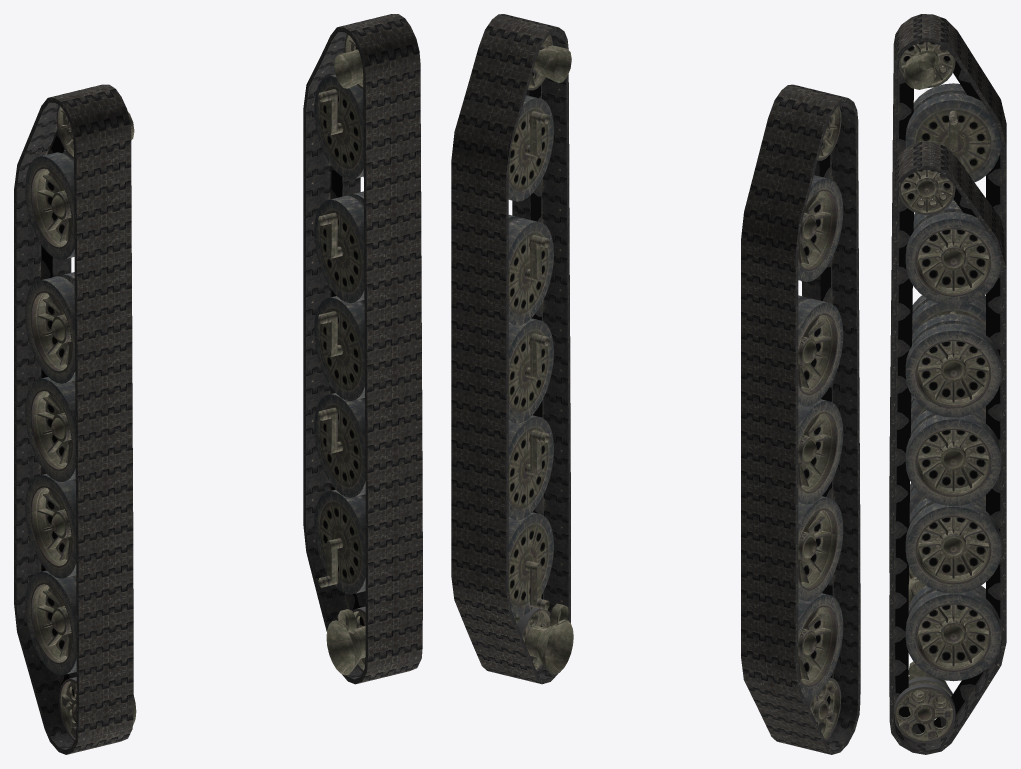
The model's file is Chassis.glb.
3 views of the same model, side by side, from view 1: azimuth 30°, elevation 25°; view 2: azimuth 150°, elevation 25°; view 3: azimuth 270°, elevation 25° (orthographic). The views are drawn at different scales.
Visible parts, largest first — view 1: set_1_group_0, set_0_group_0, set_3_group_0, set_2_group_0; view 2: set_1_group_0, set_0_group_0, set_3_group_0, set_2_group_0; view 3: set_3_group_0, set_0_group_0, set_2_group_0, set_1_group_0.
Part boxes in pixels (x1=…): set_1_group_0: x1=14, y1=84, x2=133, y2=754; set_0_group_0: x1=303, y1=14, x2=422, y2=684; set_3_group_0: x1=314, y1=34, x2=365, y2=675; set_2_group_0: x1=25, y1=105, x2=136, y2=741; set_1_group_0: x1=741, y1=84, x2=860, y2=754; set_0_group_0: x1=451, y1=14, x2=570, y2=684; set_3_group_0: x1=508, y1=34, x2=573, y2=674; set_2_group_0: x1=798, y1=106, x2=843, y2=740; set_3_group_0: x1=894, y1=170, x2=1001, y2=743; set_0_group_0: x1=889, y1=141, x2=1006, y2=754; set_2_group_0: x1=899, y1=42, x2=1001, y2=605; set_1_group_0: x1=889, y1=14, x2=1006, y2=572.
Size of the model in its own units: 3.14 by 5.68 by 1.02.
4 materials, 4 textured.
